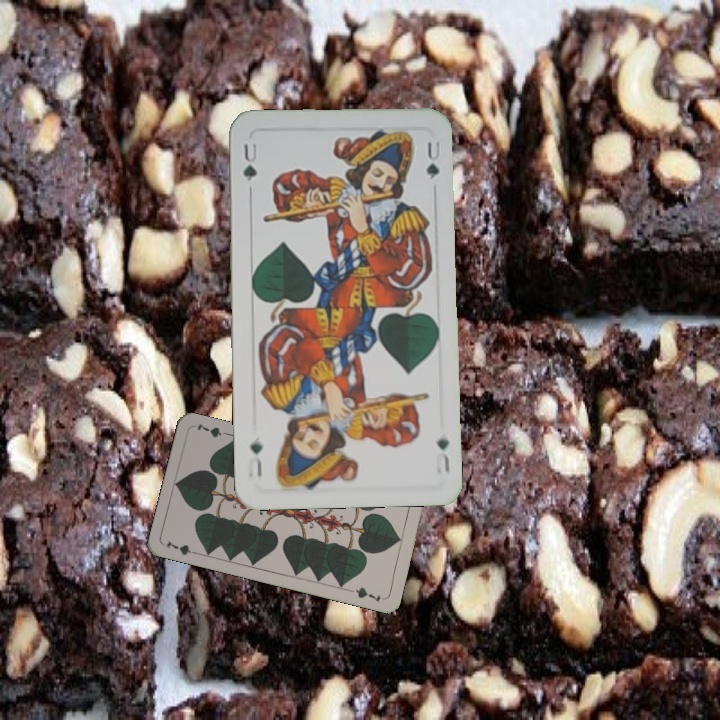G7: (162, 537, 202, 558)
GU: (239, 139, 260, 184), (431, 435, 452, 476)
